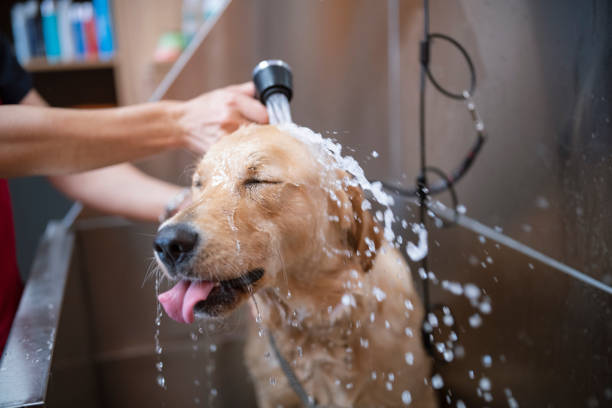dog: (96, 51, 521, 402)
